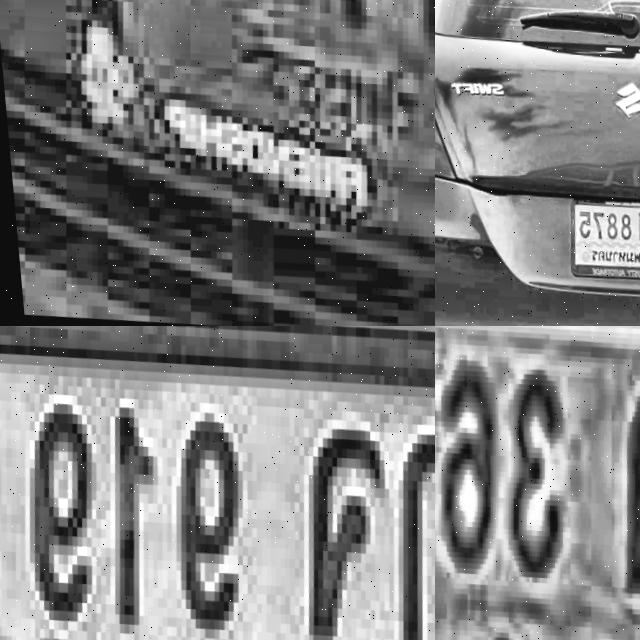license-plate: (0, 0, 435, 326), (0, 326, 435, 640), (435, 326, 640, 640), (552, 189, 640, 288)
